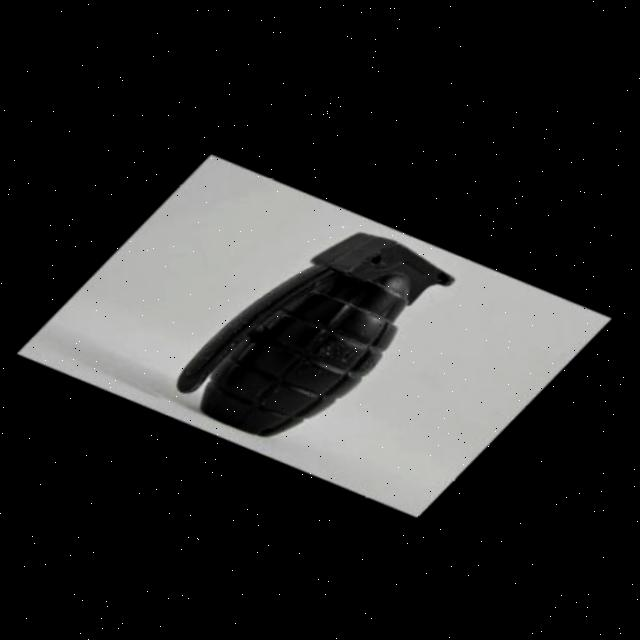grenade: (151, 196, 491, 474)
